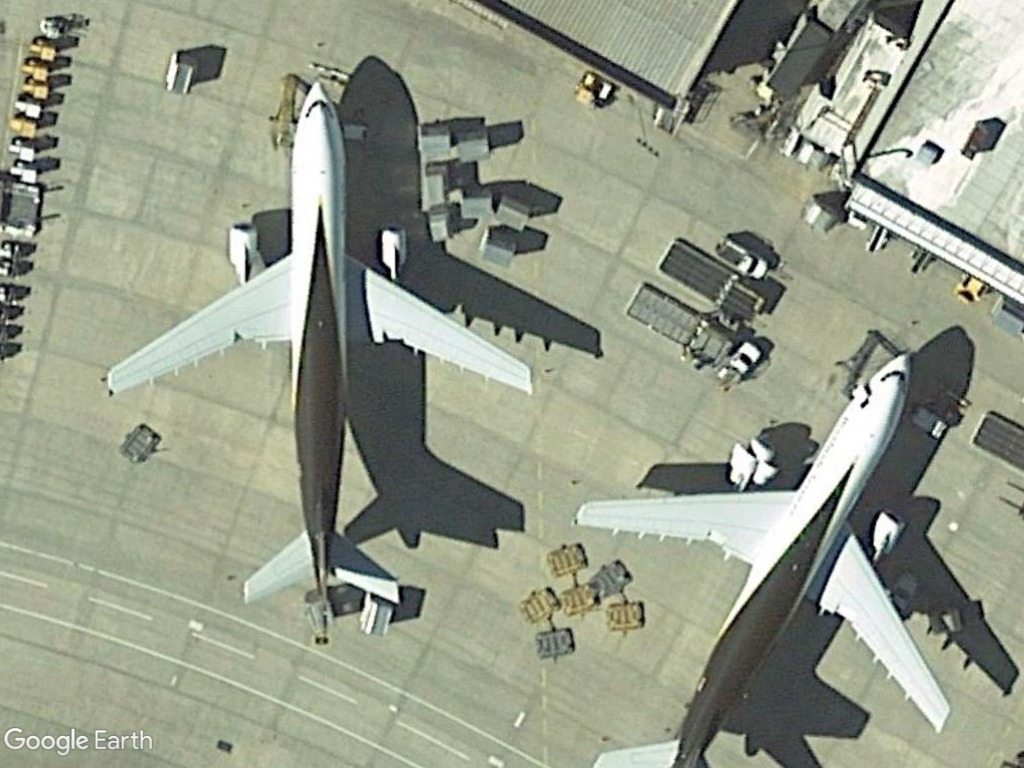airliner: (94, 73, 538, 628)
